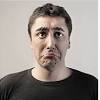Sad: (33, 21, 72, 66)
